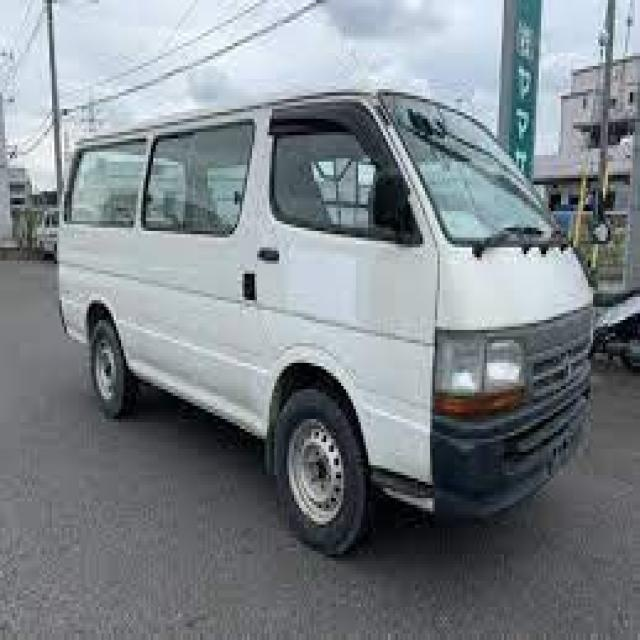Van: (57, 86, 594, 561)
